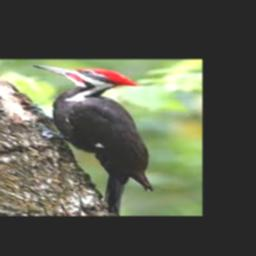Woodpecker: (30, 64, 152, 216)
